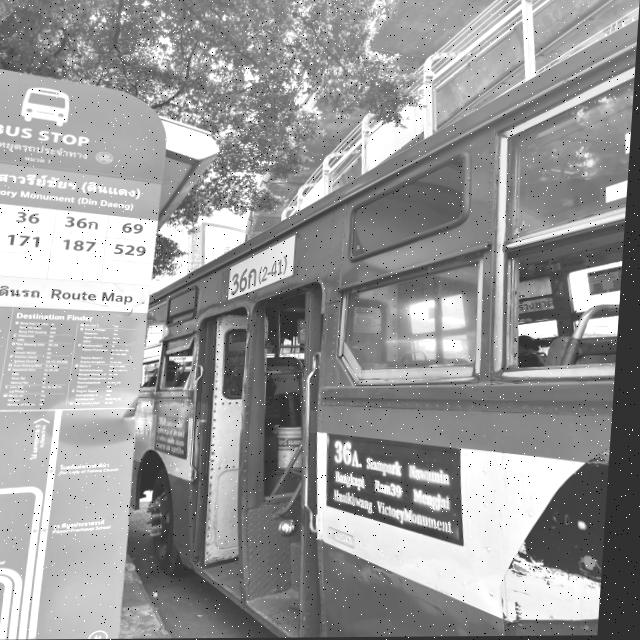BMTA-bus: (131, 0, 640, 639)
